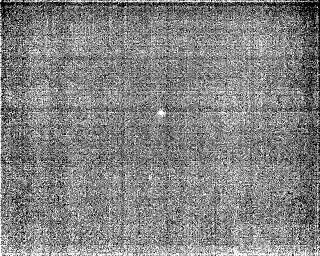BIRD: (154, 106, 169, 120)
